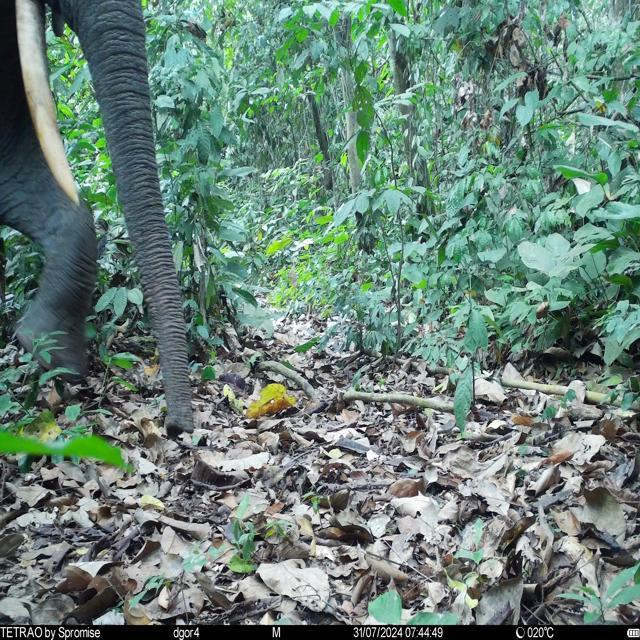elephant: (0, 1, 196, 436)
tusk: (14, 0, 82, 207)
